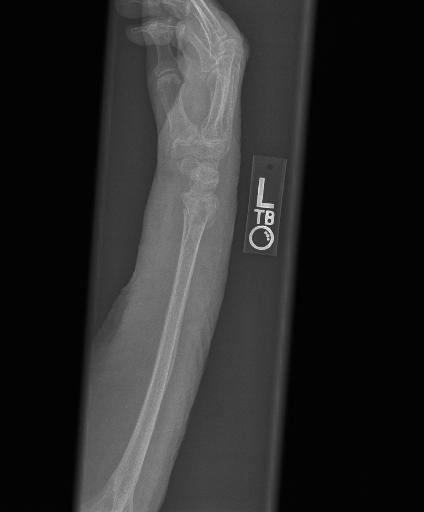fractured: (173, 191, 217, 241)
